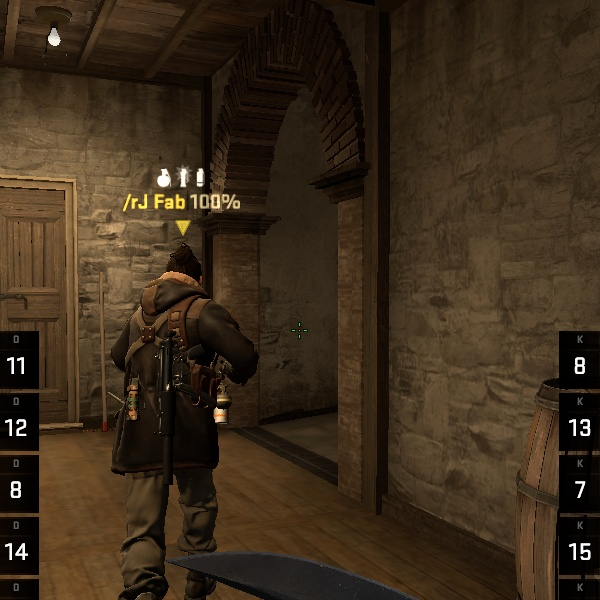t_body: (79, 241, 277, 586)
t_head: (141, 244, 217, 319)
